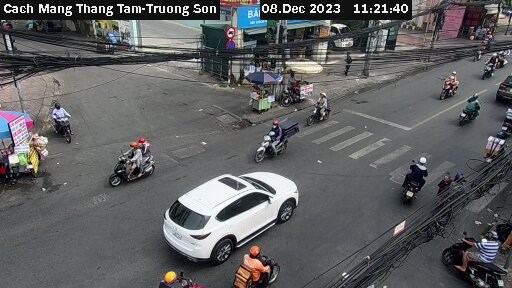car: (160, 171, 305, 262), (496, 73, 512, 106)
motorbike: (439, 222, 511, 285), (234, 249, 292, 288), (110, 144, 155, 186), (393, 159, 433, 206), (255, 124, 297, 165), (303, 94, 344, 133), (45, 104, 82, 142), (152, 262, 204, 288), (456, 91, 486, 126), (439, 71, 467, 106), (478, 56, 500, 83)
